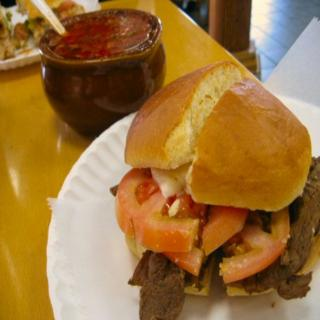Hamburger: (108, 62, 320, 319)
